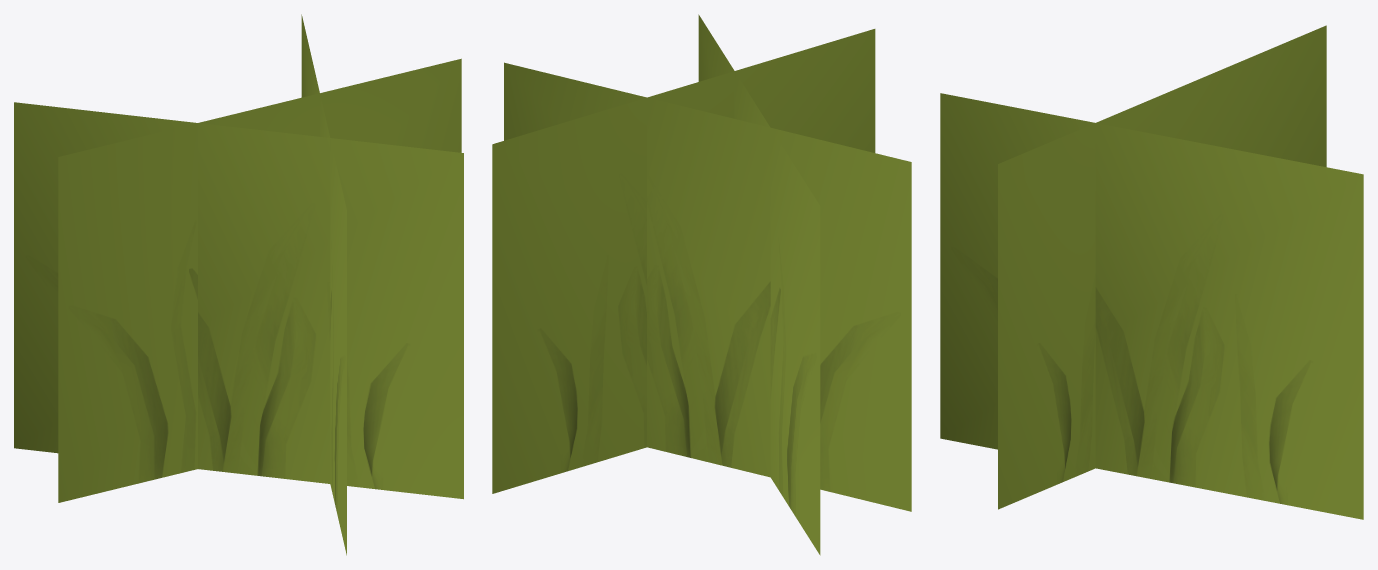
Rendered from SM_Env_Grass_Clump_01.fbx.
The picture shows the model from 3 angles, left to right: view 1: azimuth 30°, elevation 25°; view 2: azimuth 150°, elevation 25°; view 3: azimuth 270°, elevation 25°; orthographic projection.
Visible parts, largest first — view 1: SM_Env_Grass_Clump_01_LOD0; view 2: SM_Env_Grass_Clump_01_LOD0; view 3: SM_Env_Grass_Clump_01_LOD0.
Part boxes in pixels (x1=…): SM_Env_Grass_Clump_01_LOD0: x1=14, y1=14, x2=463, y2=555; SM_Env_Grass_Clump_01_LOD0: x1=492, y1=14, x2=911, y2=555; SM_Env_Grass_Clump_01_LOD0: x1=940, y1=25, x2=1363, y2=519.
Size of what is drawn, in the model's own units: 100 by 81.98 by 91.04.
